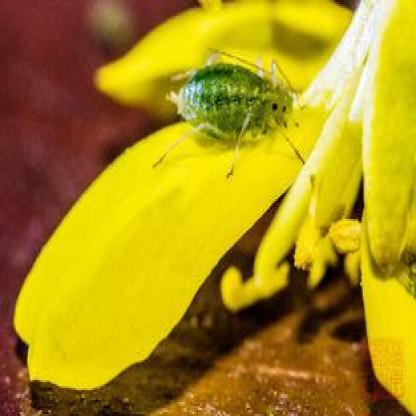aphid: (159, 41, 308, 162)
